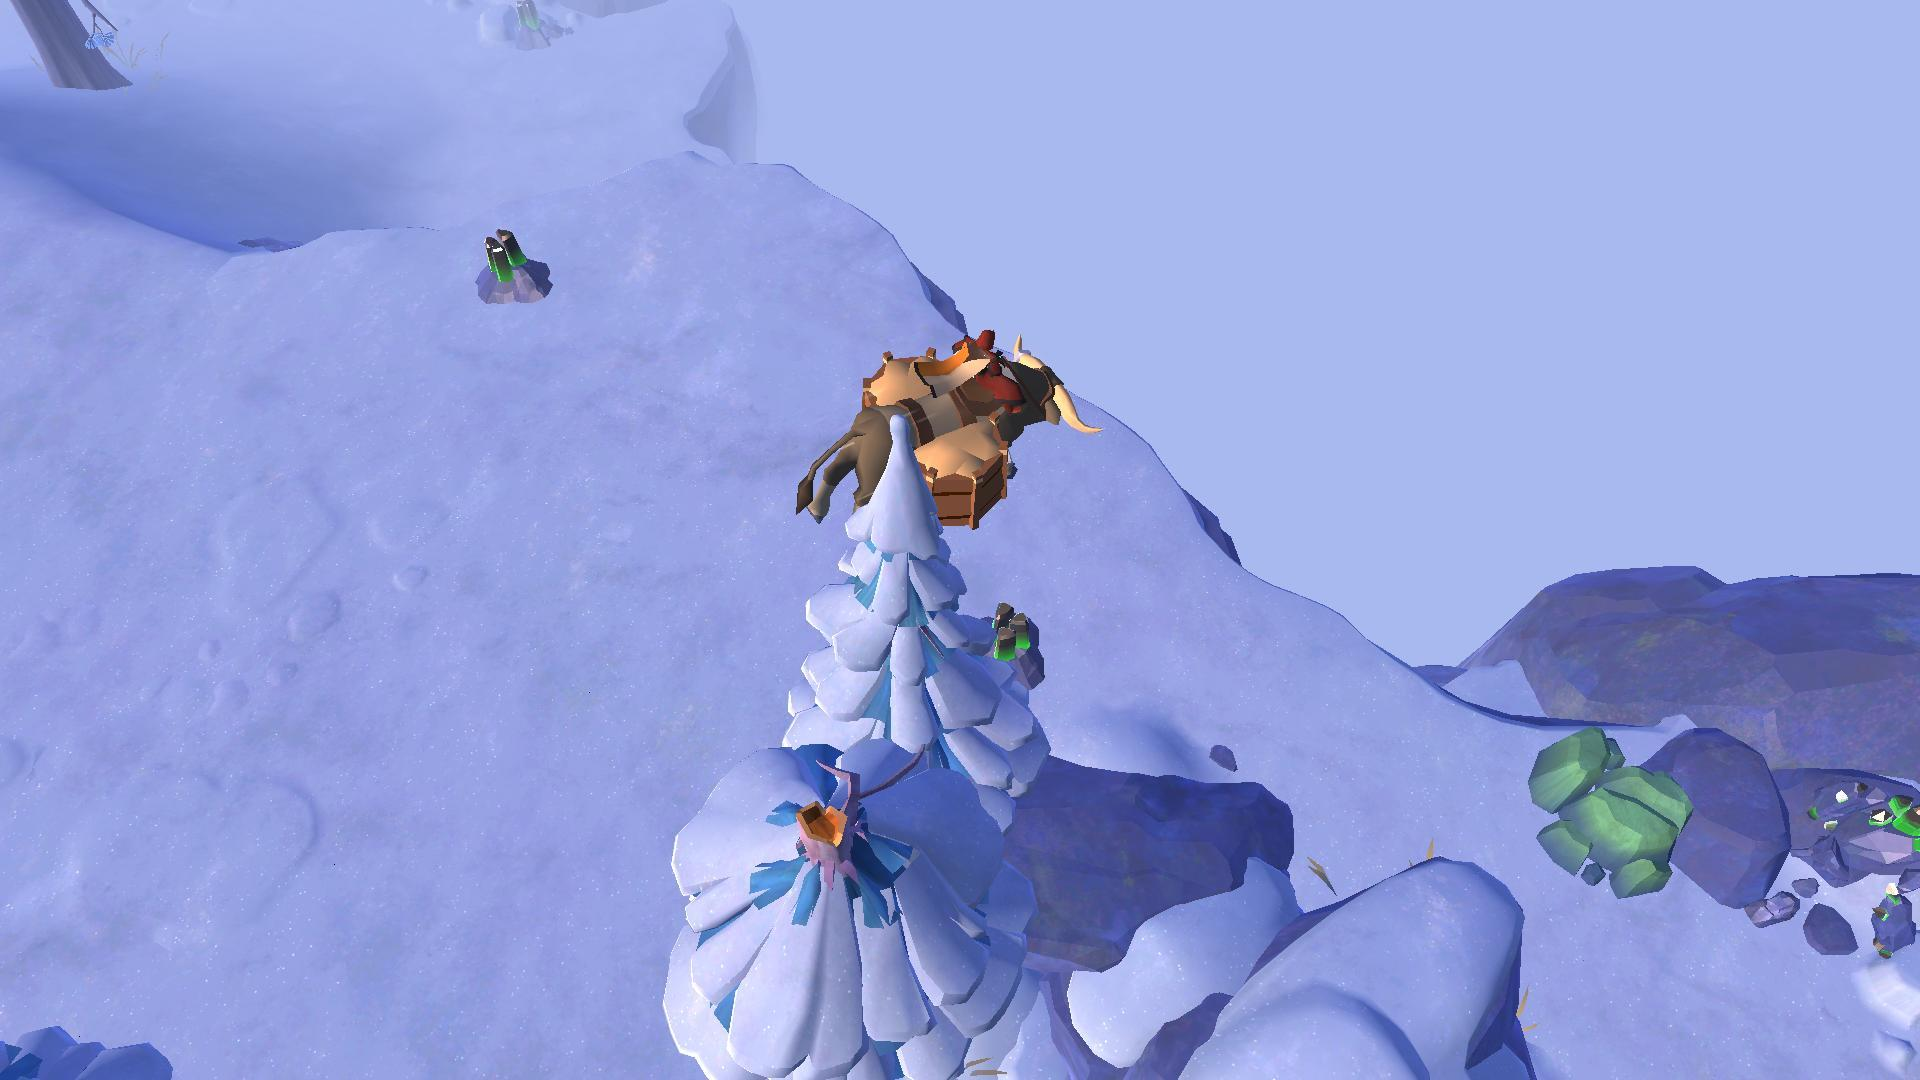ore_t3: (479, 224, 527, 284), (986, 603, 1034, 663), (506, 0, 541, 41)
rock_t3: (1518, 717, 1693, 899)
